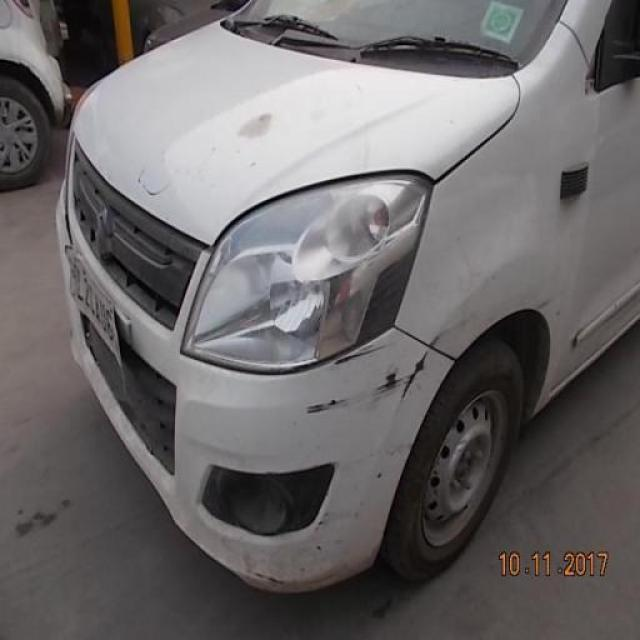scratch: (374, 332, 441, 406), (330, 341, 397, 368), (135, 163, 172, 204), (305, 395, 353, 418), (247, 567, 296, 588)
